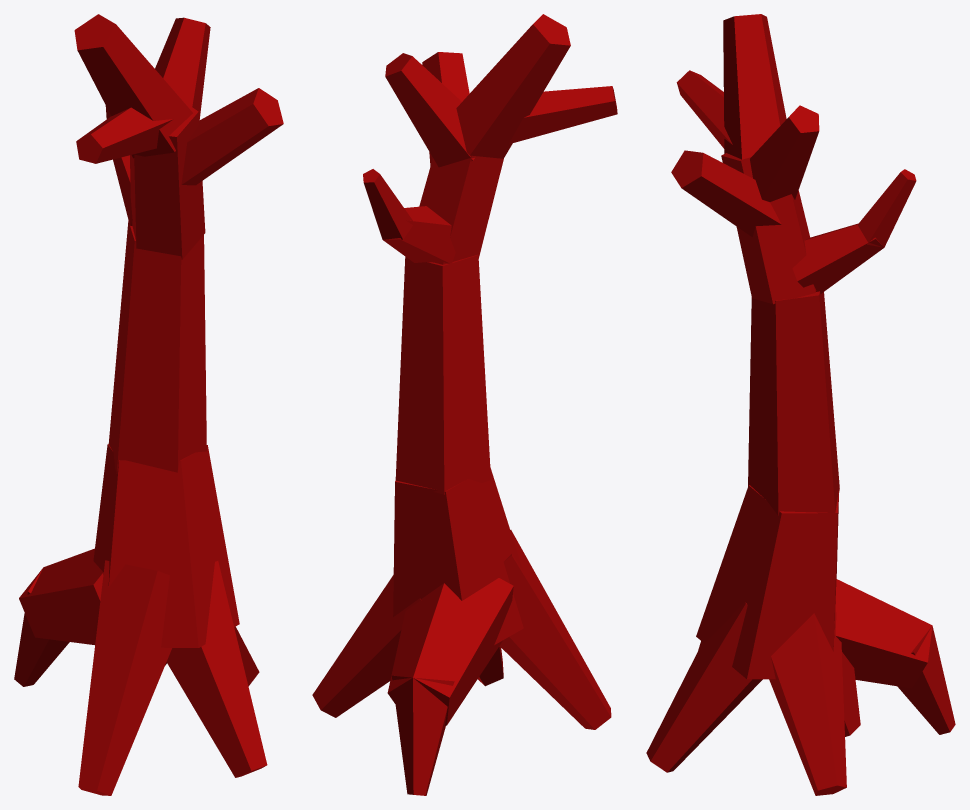
File: SM_Env_Tree_Forest_02_Collision.glb
The picture shows the model from 3 angles, left to right: view 1: azimuth 30°, elevation 25°; view 2: azimuth 150°, elevation 25°; view 3: azimuth 270°, elevation 25°; orthographic projection. The views are drawn at different scales.
Visible parts, largest first — view 1: SM_Env_Tree_Forest_02_Collision; view 2: SM_Env_Tree_Forest_02_Collision; view 3: SM_Env_Tree_Forest_02_Collision.
Part boxes in pixels (x1,y1,x2,y2): SM_Env_Tree_Forest_02_Collision: [14, 14, 283, 795]; SM_Env_Tree_Forest_02_Collision: [312, 14, 617, 795]; SM_Env_Tree_Forest_02_Collision: [646, 14, 955, 795].
Bounding box in the file's own units: 3.06 × 8.99 × 3.53.
